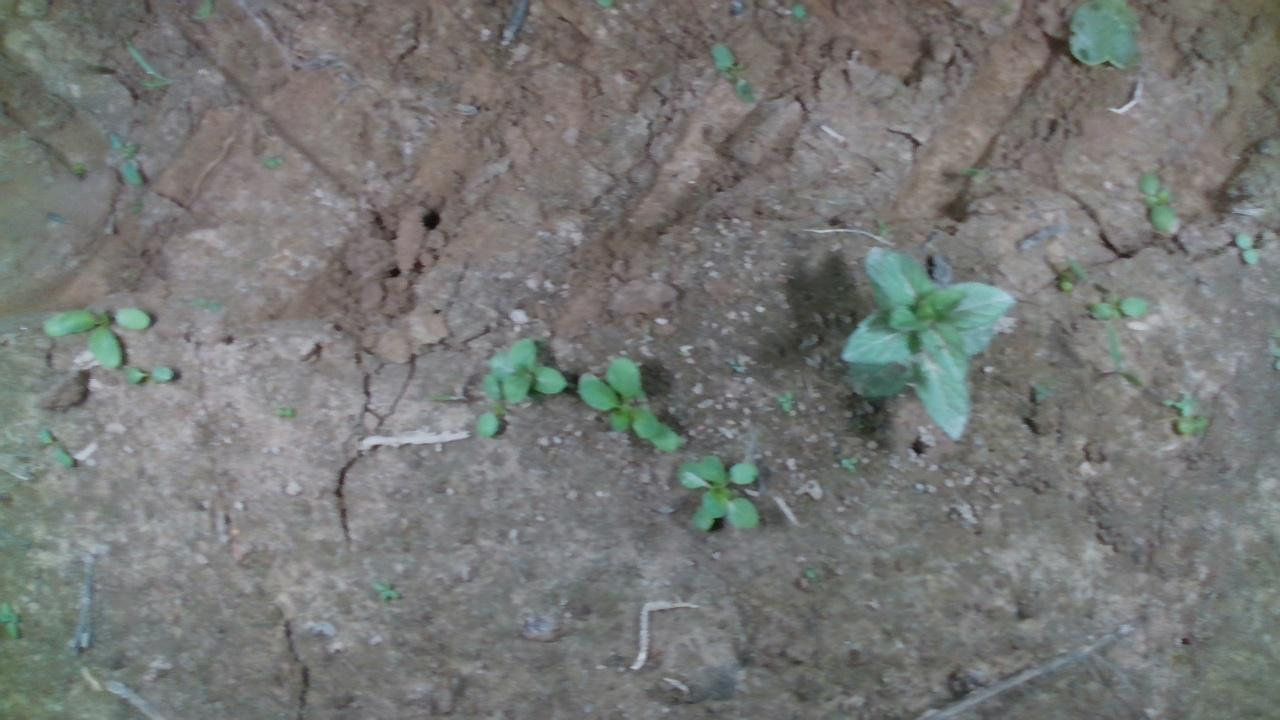weed: (1134, 169, 1178, 233), (40, 424, 75, 468), (124, 363, 175, 382), (1232, 228, 1258, 264)
